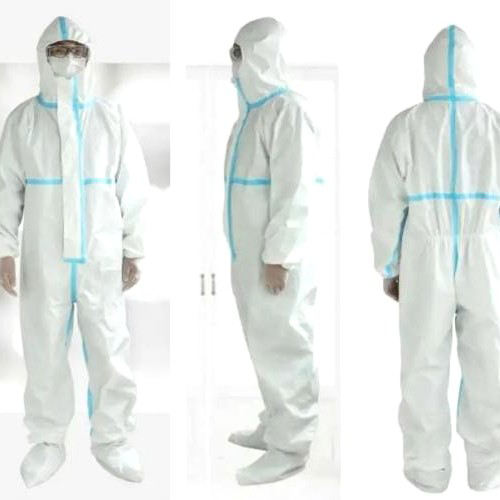Coverall: (1, 13, 153, 446), (374, 23, 500, 462), (220, 16, 331, 427)
with_mask: (44, 51, 90, 81)
